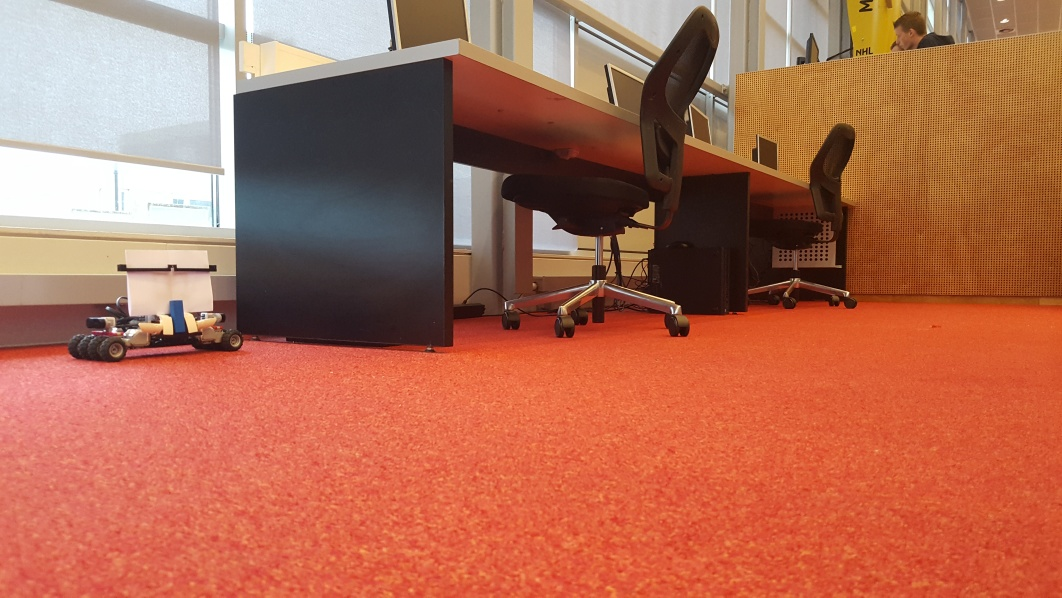car: (67, 248, 244, 361)
